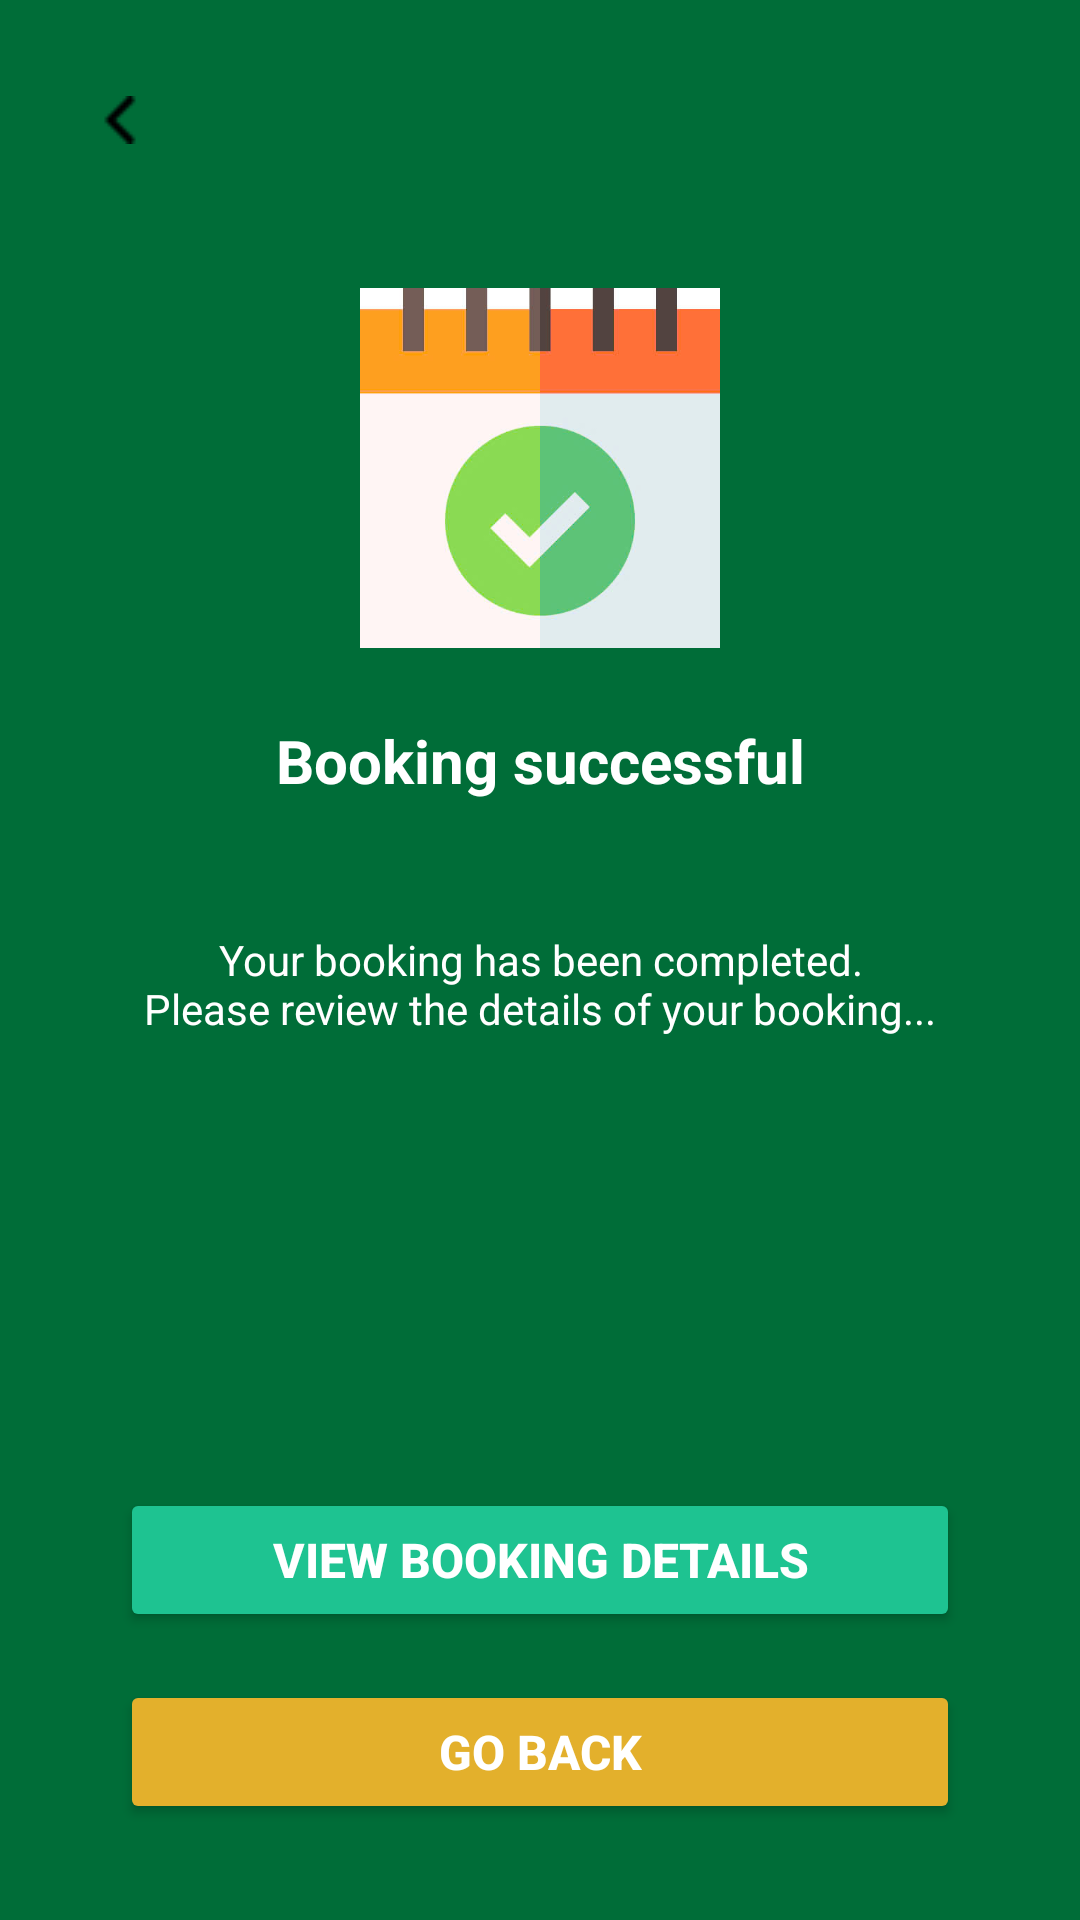

Locate icon controls on the screen. Image size 1080 × 1920, boxes as (x1, y1, x2, y2).
Quay lại: (105, 96, 135, 144)
Success Icon: (360, 288, 720, 648)
